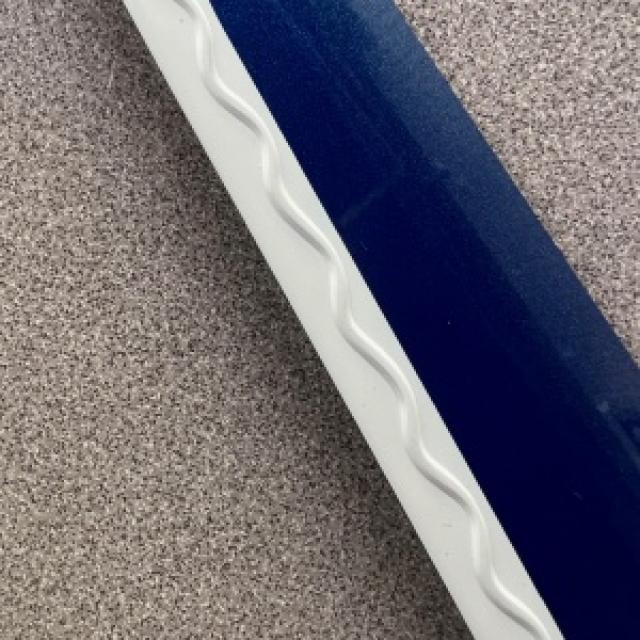healthy: (126, 0, 561, 638), (414, 0, 638, 356)
